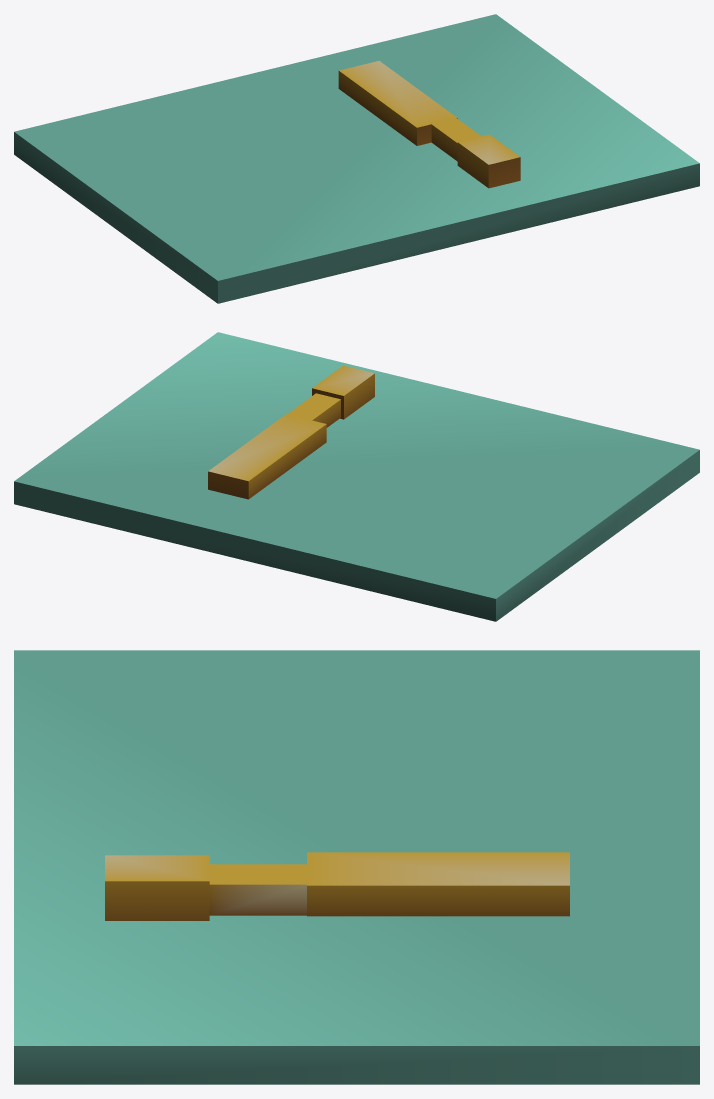
The model's file is Pickup-004-Kinfe.fbx.
3 views of the same model, one above another, from view 1: azimuth 30°, elevation 25°; view 2: azimuth 150°, elevation 25°; view 3: azimuth 270°, elevation 25° (orthographic). The views are drawn at different scales.
Visible parts, largest first — view 1: PICKUP-Type04-Knife; view 2: PICKUP-Type04-Knife; view 3: PICKUP-Type04-Knife.
Boxes of the visible parts, bbox=[...] form: PICKUP-Type04-Knife: bbox=[14, 14, 699, 303]; PICKUP-Type04-Knife: bbox=[14, 332, 699, 621]; PICKUP-Type04-Knife: bbox=[14, 650, 699, 1084].
Size of the model in its own units: 6.45 by 0.5938 by 4.72.
